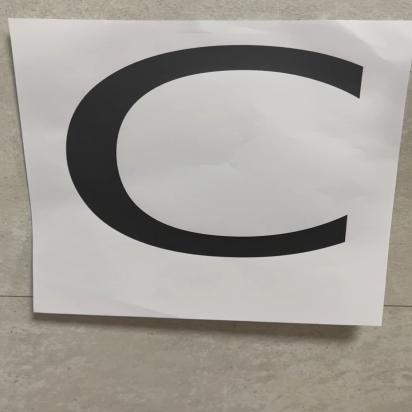seat: (14, 28, 381, 318)
